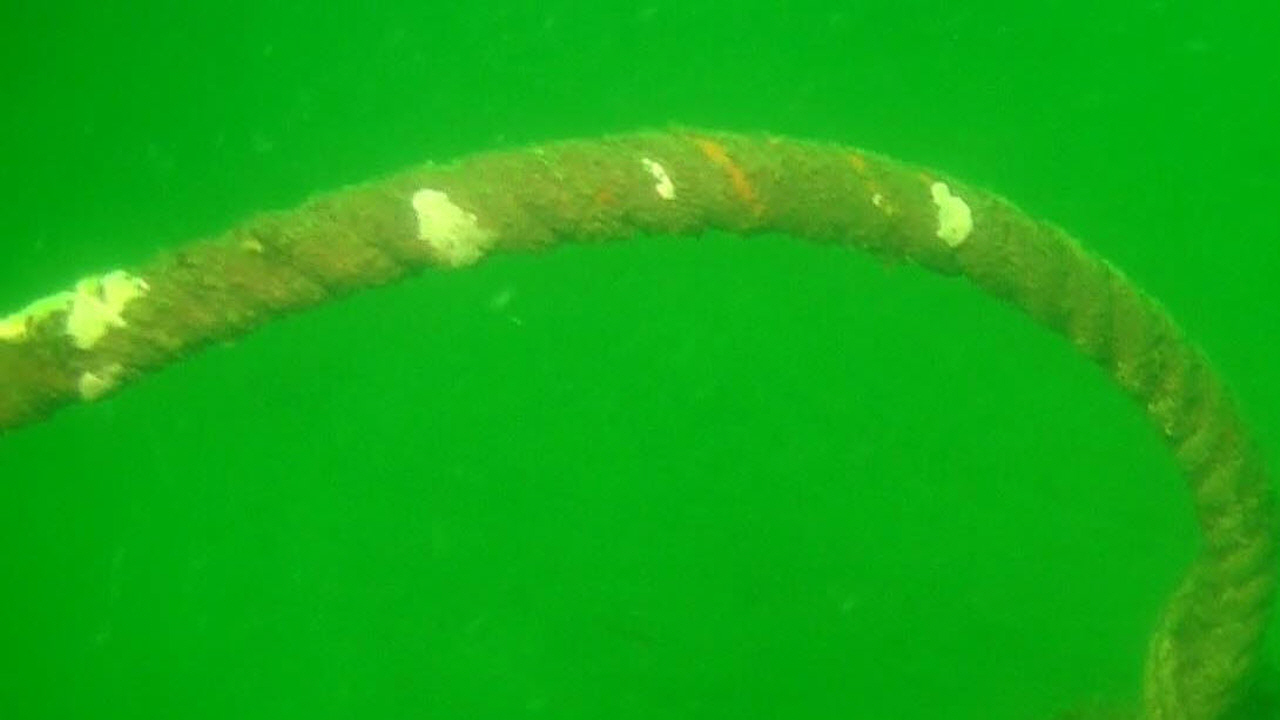rope: (0, 127, 1280, 719)
